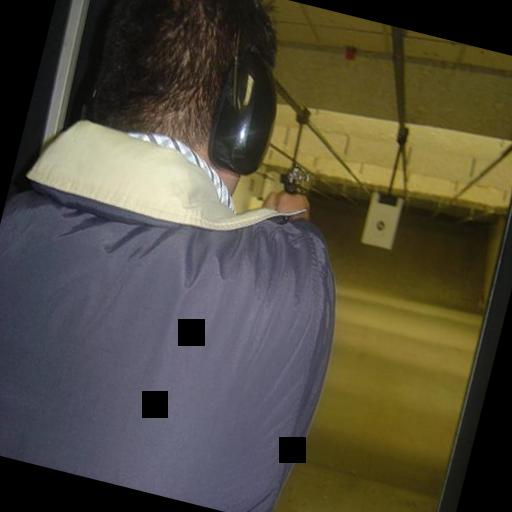Handgun: (276, 160, 308, 192)
